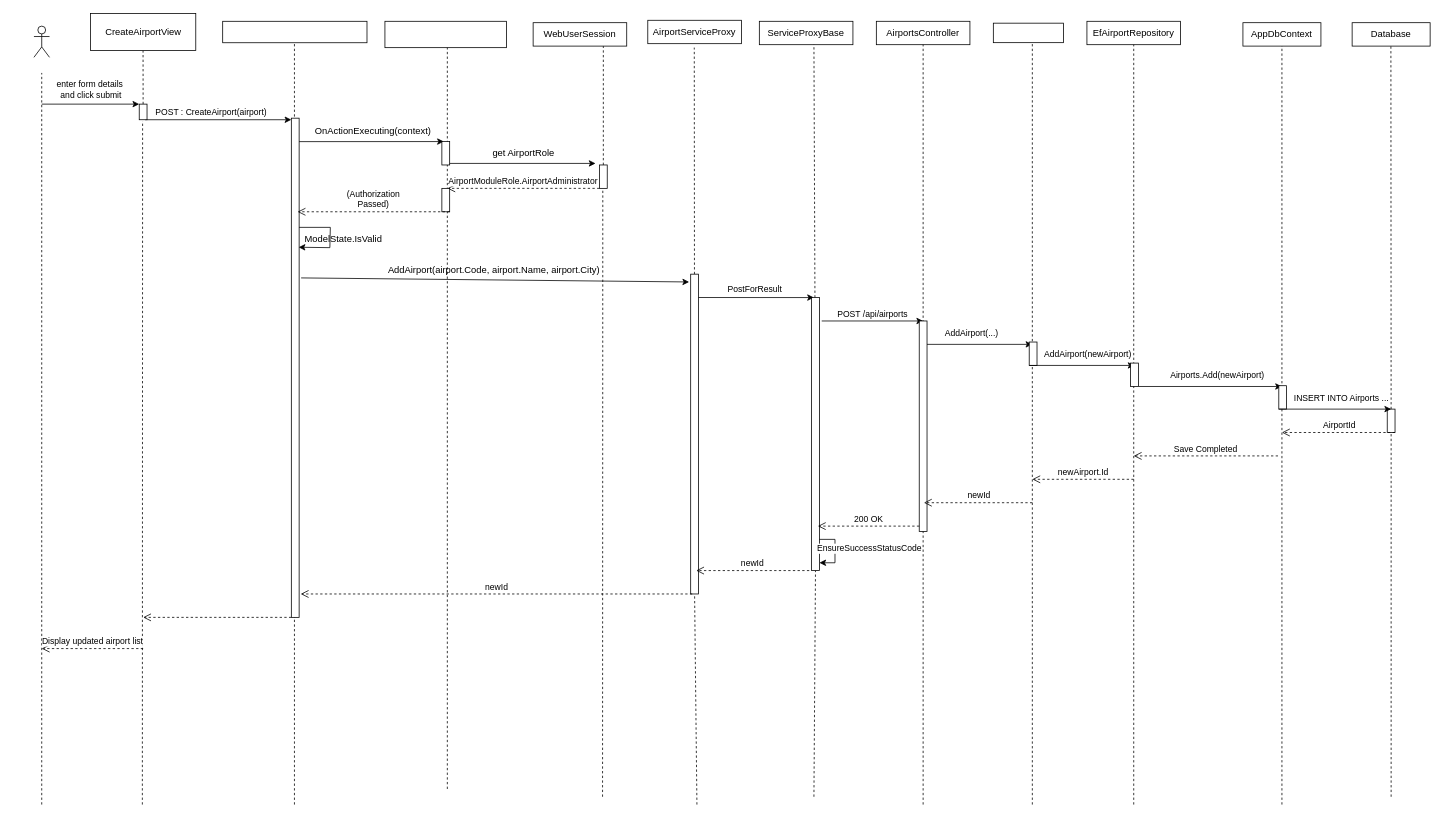
The diagram is 1444 pixels wide and 820 high, and some of its shapes have lost their labels. Here are the shapes that lost their labels. From the top down, the box of each, then its label:
(33, 25, 50, 57): Airport Admin
(222, 21, 367, 43): AirportAdministrationController
(384, 21, 507, 48): RequireAirportRoleAttribute
(993, 22, 1064, 43): Airport Service
